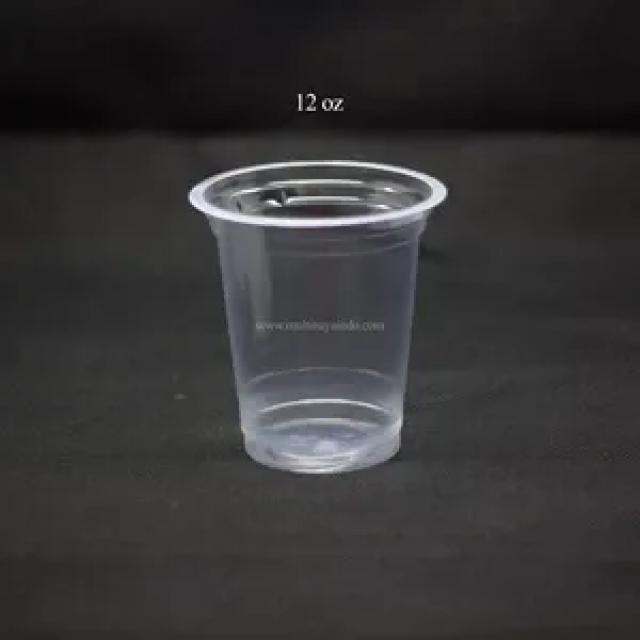plastic cup: (182, 145, 452, 486)
